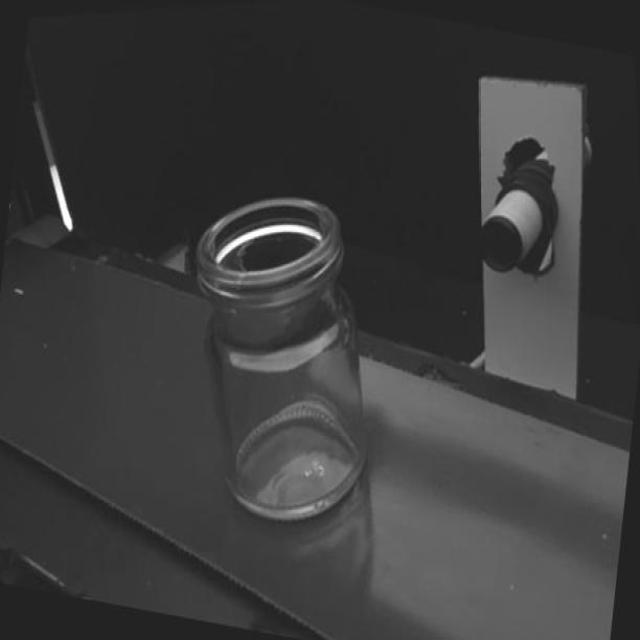defect: (228, 261, 254, 292), (222, 298, 240, 321)
glass: (158, 160, 408, 560)
